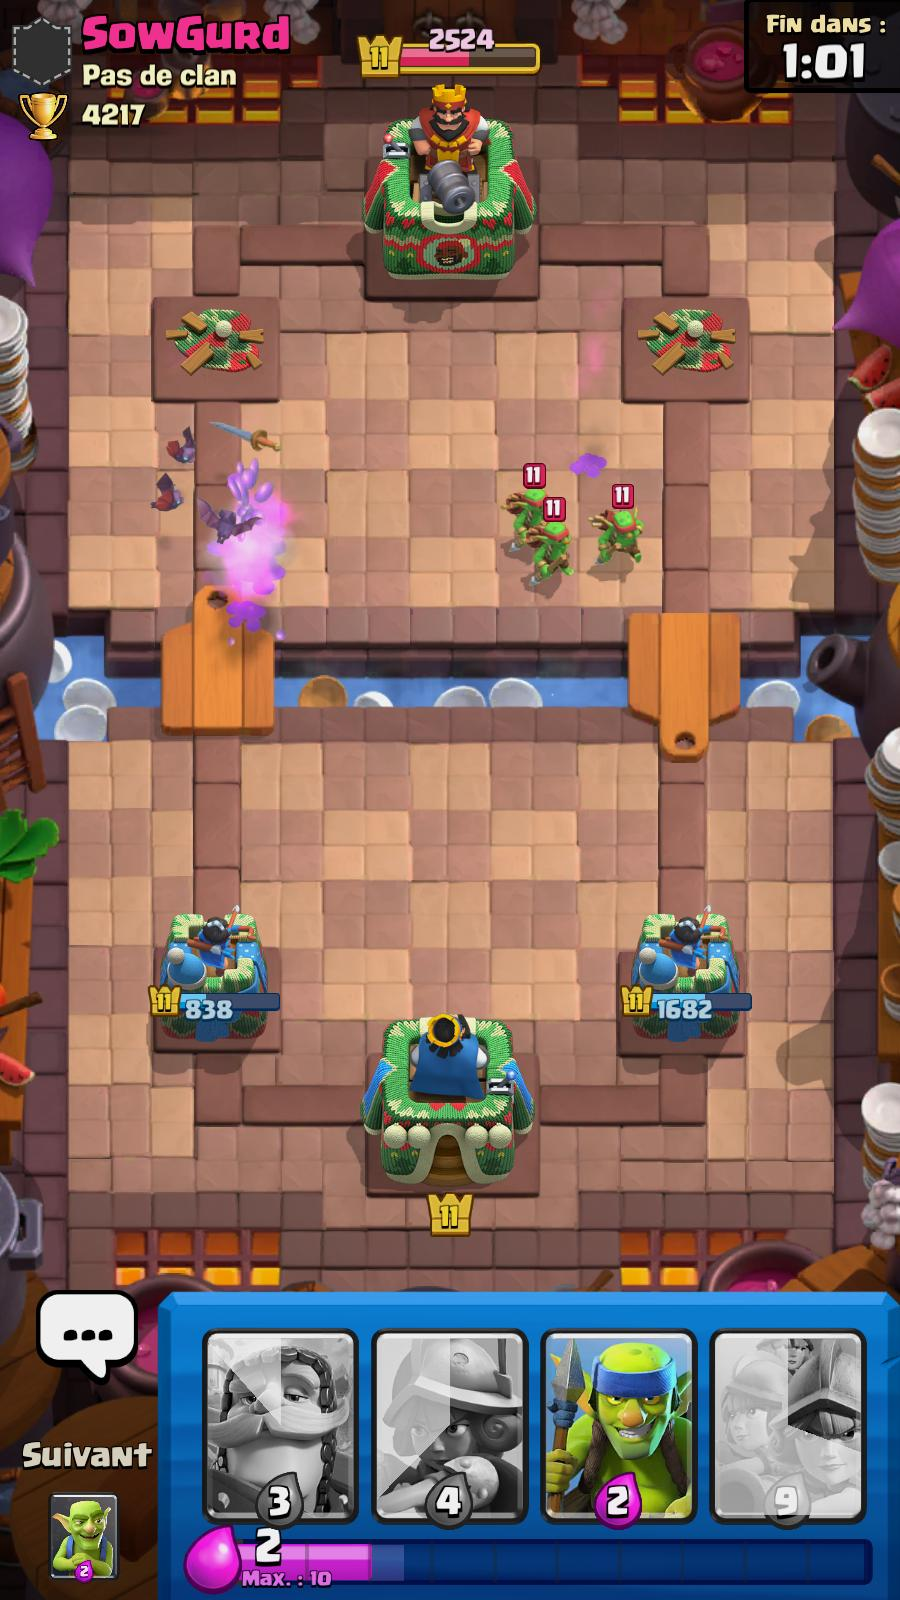bat: (195, 497, 264, 547), (149, 471, 184, 514), (165, 423, 198, 465)
gobelin_lances: (592, 484, 644, 570), (505, 464, 551, 546), (532, 493, 574, 579)
